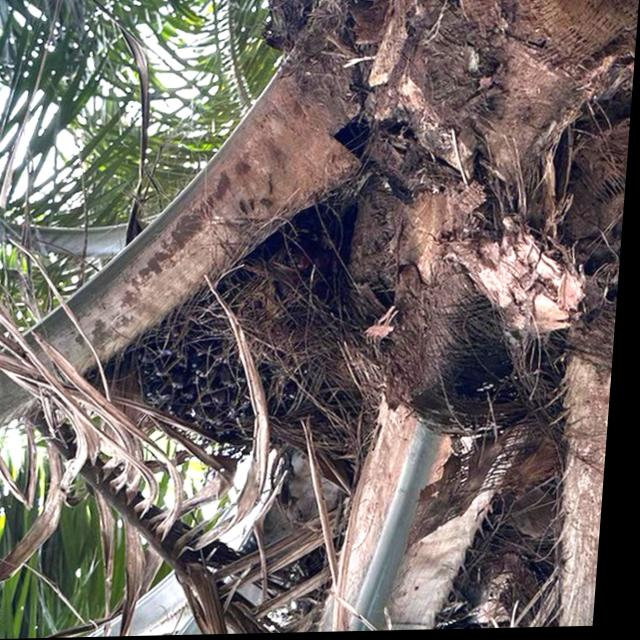almost: (134, 200, 370, 458)
